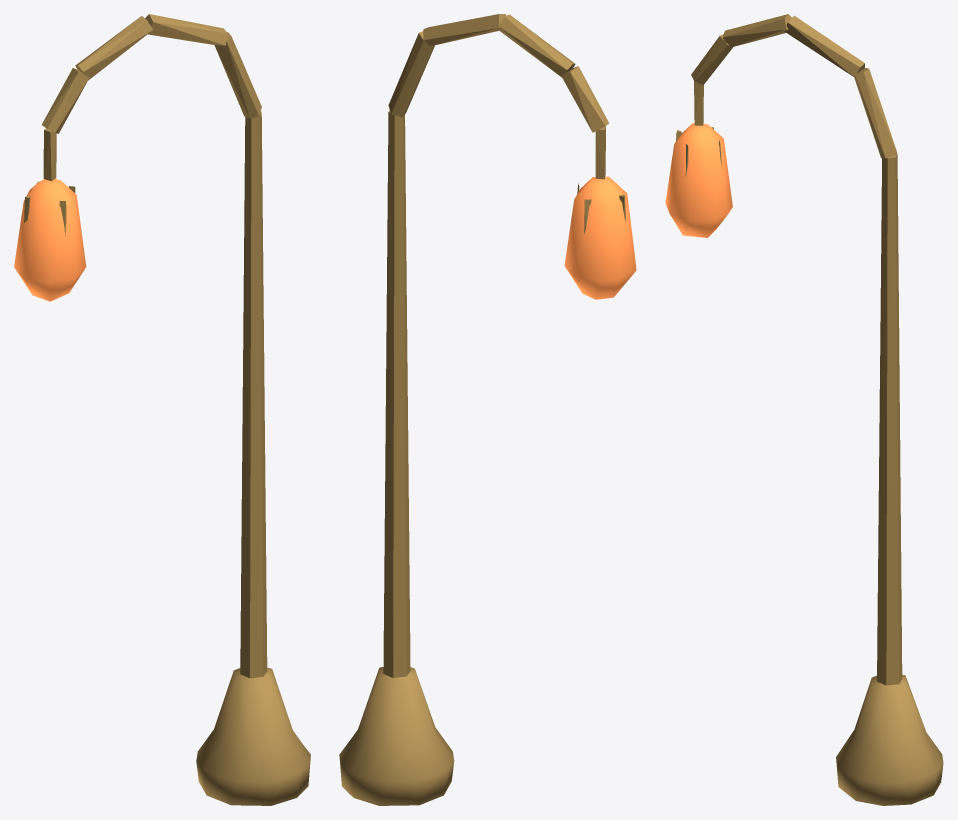
Rendered from lamp-lod1.glb.
3 renders of one model, left to right at view 1: azimuth 30°, elevation 25°; view 2: azimuth 150°, elevation 25°; view 3: azimuth 330°, elevation 25°, orthographic. The views are drawn at different scales.
Parts seen in each view (by area): view 1: Citadel_Plaza_lamp__aged_brushed_brass.001, Citadel_Plaza_lamp__amber_furnace_stone.001; view 2: Citadel_Plaza_lamp__aged_brushed_brass.001, Citadel_Plaza_lamp__amber_furnace_stone.001; view 3: Citadel_Plaza_lamp__aged_brushed_brass.001, Citadel_Plaza_lamp__amber_furnace_stone.001.
Boxes of the visible parts, <box> form: Citadel_Plaza_lamp__aged_brushed_brass.001: <box>24,14,310,805</box>; Citadel_Plaza_lamp__amber_furnace_stone.001: <box>14,179,86,301</box>; Citadel_Plaza_lamp__aged_brushed_brass.001: <box>339,14,625,805</box>; Citadel_Plaza_lamp__amber_furnace_stone.001: <box>564,176,636,299</box>; Citadel_Plaza_lamp__aged_brushed_brass.001: <box>676,14,943,805</box>; Citadel_Plaza_lamp__amber_furnace_stone.001: <box>665,123,732,237</box>.
Bounding box in the file's own units: 0.9095 × 2.43 × 0.32.
